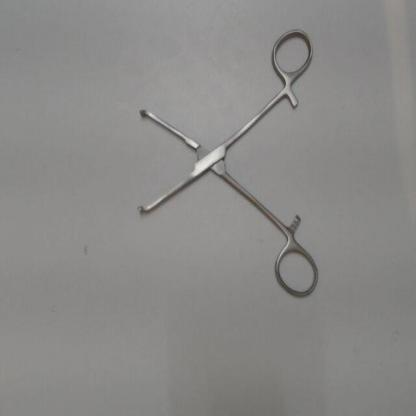Allis Tissue Forceps: (133, 21, 327, 302)
